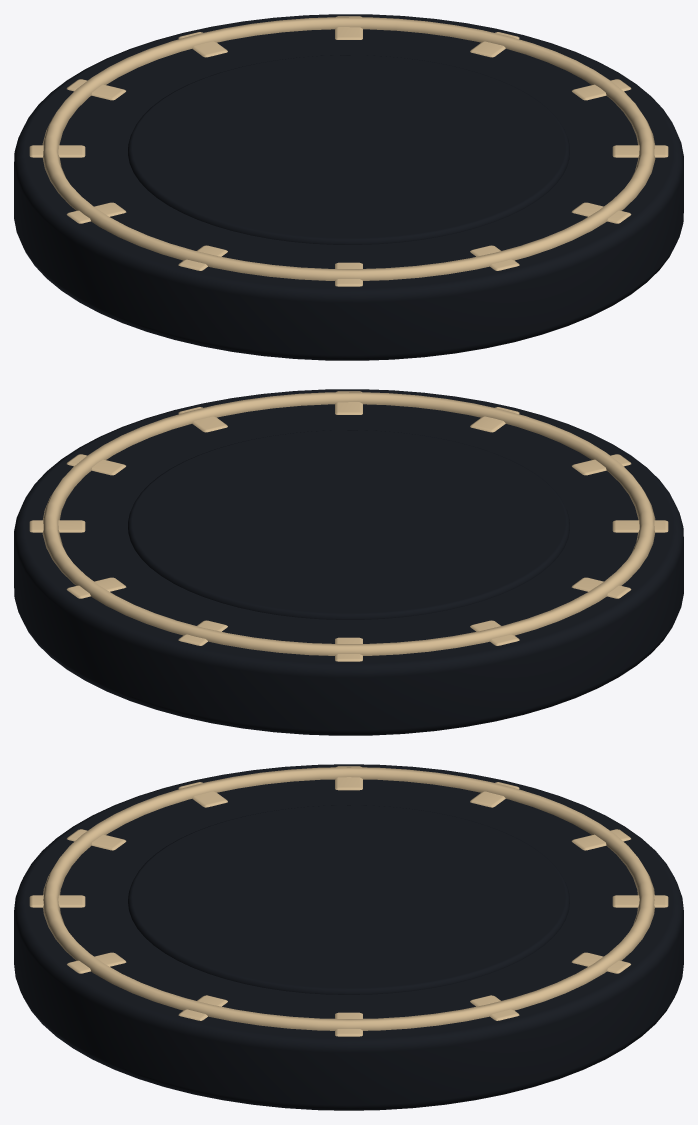
Rendered from casino-chip.glb.
The picture shows the model from 3 angles, top to bottom: view 1: azimuth 30°, elevation 25°; view 2: azimuth 150°, elevation 25°; view 3: azimuth 270°, elevation 25°; orthographic projection.
Parts seen in each view (by area): view 1: CasinoChip_BlackGold_body, CasinoChip_BlackGold_centre, CasinoChip_BlackGold_rim, CasinoChip_BlackGold_edge5, CasinoChip_BlackGold_edge11; view 2: CasinoChip_BlackGold_body, CasinoChip_BlackGold_centre, CasinoChip_BlackGold_rim, CasinoChip_BlackGold_edge1, CasinoChip_BlackGold_edge7; view 3: CasinoChip_BlackGold_body, CasinoChip_BlackGold_centre, CasinoChip_BlackGold_rim, CasinoChip_BlackGold_edge3, CasinoChip_BlackGold_edge9.
Part boxes in pixels (bbox=[...]): CasinoChip_BlackGold_body: bbox=[14, 14, 683, 360]; CasinoChip_BlackGold_centre: bbox=[128, 55, 569, 244]; CasinoChip_BlackGold_rim: bbox=[42, 17, 655, 280]; CasinoChip_BlackGold_edge5: bbox=[29, 145, 85, 157]; CasinoChip_BlackGold_edge11: bbox=[612, 145, 668, 157]; CasinoChip_BlackGold_body: bbox=[14, 389, 683, 735]; CasinoChip_BlackGold_centre: bbox=[128, 430, 569, 619]; CasinoChip_BlackGold_rim: bbox=[42, 392, 655, 655]; CasinoChip_BlackGold_edge1: bbox=[29, 520, 85, 532]; CasinoChip_BlackGold_edge7: bbox=[612, 520, 668, 532]; CasinoChip_BlackGold_body: bbox=[14, 764, 683, 1110]; CasinoChip_BlackGold_centre: bbox=[128, 805, 569, 994]; CasinoChip_BlackGold_rim: bbox=[43, 767, 654, 1030]; CasinoChip_BlackGold_edge3: bbox=[612, 895, 668, 907]; CasinoChip_BlackGold_edge9: bbox=[29, 895, 85, 907].
Size of the model in its own units: 2.2 by 0.2902 by 2.2.
